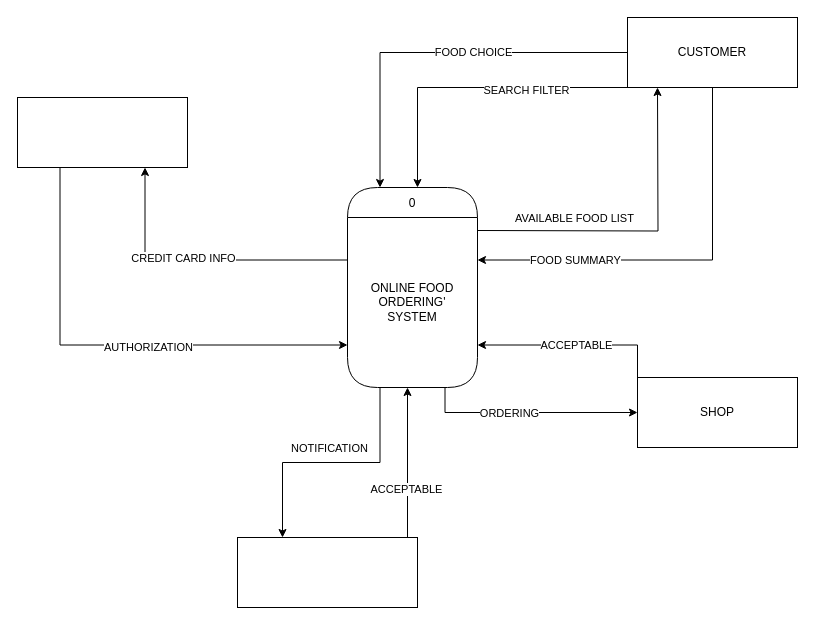
Image size: 815x625. Some labels were removed from this diagram. The shapes that lost their labels are listed below. From the top down, each one's centre as x and y in pixels, then its label:
At (102,132): "BANK".
At (327,572): "DELIVERER".
